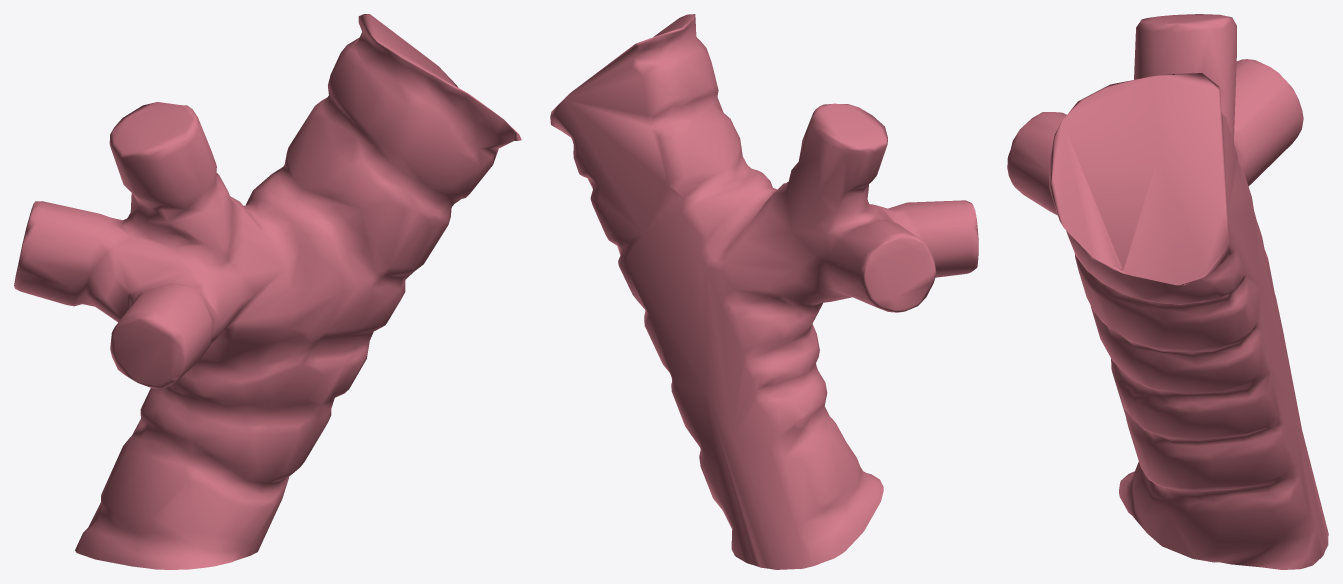
Rendered from Main_bronchus_right.glb.
The picture shows the model from 3 angles, left to right: view 1: azimuth 30°, elevation 25°; view 2: azimuth 150°, elevation 25°; view 3: azimuth 270°, elevation 25°; orthographic projection. The views are drawn at different scales.
Parts seen in each view (by area): view 1: Main_bronchus.r_grp1.371; view 2: Main_bronchus.r_grp1.371; view 3: Main_bronchus.r_grp1.371.
Boxes of the visible parts, x1,y1,x2,y2 form: Main_bronchus.r_grp1.371: (14,14,521,569); Main_bronchus.r_grp1.371: (550,14,978,569); Main_bronchus.r_grp1.371: (1007,14,1328,569).
Size of the model in its own units: 0.0447 by 0.0493 by 0.0253.
